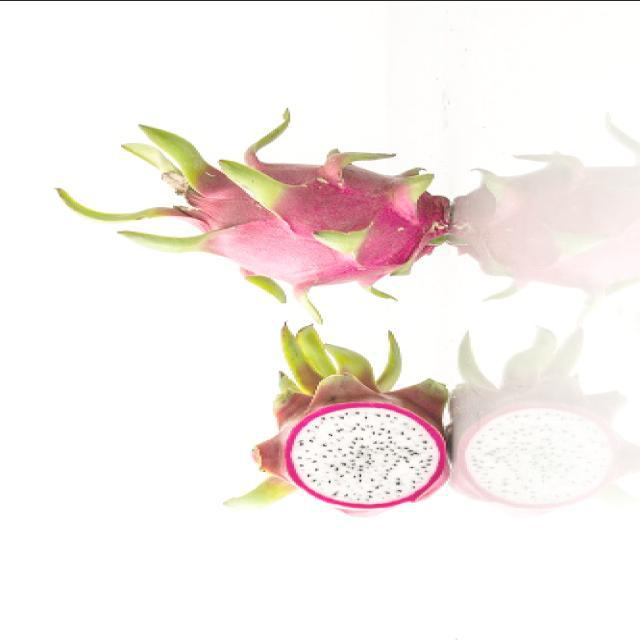trang: (53, 103, 479, 325), (220, 324, 460, 520)
